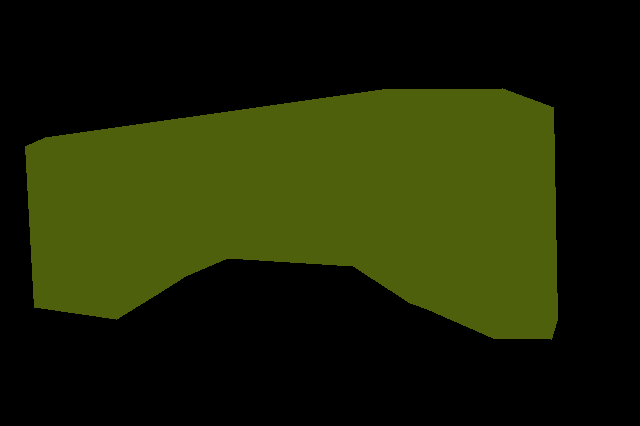Train: (25, 88, 557, 339)
